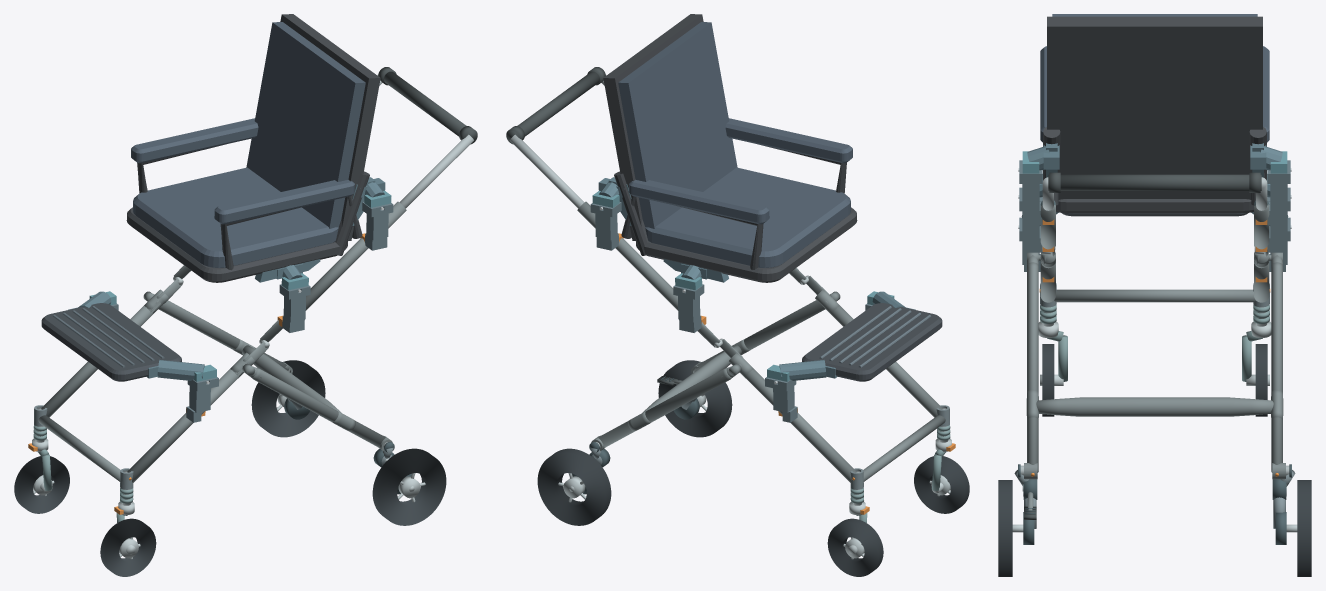
File: S08_w550_state1_wheel_S.glb
The picture shows the model from 3 angles, left to right: view 1: azimuth 30°, elevation 25°; view 2: azimuth 150°, elevation 25°; view 3: azimuth 270°, elevation 25°; orthographic projection. The views are drawn at different scales.
Visible parts, largest first — view 1: S08_Cabin, S08_Cabin_Footrest, RL_tire.002, RR_tire.002, FL_tire.002, FR_tire.002, V46_rear_leg_-1.003, S08_Cabin_Footrest_LowDocks, main_lower_-1.003, round_handle.002, main_upper_-1.003, V46_rear_leg_1.003 (+9 smaller); view 2: S08_Cabin, S08_Cabin_Footrest, RR_tire.002, RL_tire.002, FR_tire.002, FL_tire.002, V46_rear_leg_1.003, S08_Cabin_Footrest_LowDocks, main_lower_1.003, round_handle.002, main_upper_1.003, V46_rear_leg_-1.003 (+9 smaller); view 3: S08_Cabin, V46_rearbar.003, round_handle.002, front_fixed_round_tube.002, V46_rear_leg_1.003, V46_rear_leg_-1.003, S08_Cabin_HighDocks, RL_tire.002, RR_tire.002, Universal_Cabin_Receiver_H_1, Universal_Cabin_Receiver_H_-1, FL_tire.002 (+10 smaller).
Part boxes in pixels (x1,y1,x2,y2): S08_Cabin: (126,14,380,282); S08_Cabin_Footrest: (41,303,181,381); RL_tire.002: (372,448,446,525); RR_tire.002: (251,360,325,437); FL_tire.002: (100,518,156,576); FR_tire.002: (14,456,69,513); V46_rear_leg_-1.003: (251,368,385,447); S08_Cabin_Footrest_LowDocks: (68,291,216,384); main_lower_-1.003: (127,369,242,482); round_handle.002: (384,71,476,142); main_upper_-1.003: (305,201,406,310); V46_rear_leg_1.003: (158,300,288,370); S08_Cabin: (603,14,857,282); S08_Cabin_Footrest: (802,303,942,381); RR_tire.002: (537,448,611,525); RL_tire.002: (658,360,732,437); FR_tire.002: (827,518,883,576); FL_tire.002: (914,456,969,513); V46_rear_leg_1.003: (598,368,732,447); S08_Cabin_Footrest_LowDocks: (767,291,915,384); main_lower_1.003: (741,369,856,482); round_handle.002: (507,71,599,142); main_upper_1.003: (577,201,678,310); V46_rear_leg_-1.003: (695,300,825,370); S08_Cabin: (1040,14,1269,212); V46_rearbar.003: (1036,397,1273,416); round_handle.002: (1048,174,1261,190); front_fixed_round_tube.002: (1054,289,1255,302); V46_rear_leg_1.003: (1271,262,1282,472); V46_rear_leg_-1.003: (1027,262,1038,472); S08_Cabin_HighDocks: (1018,145,1291,173); RL_tire.002: (998,480,1012,576); RR_tire.002: (1297,480,1311,576); Universal_Cabin_Receiver_H_1: (1267,160,1290,225); Universal_Cabin_Receiver_H_-1: (1019,160,1042,225); FL_tire.002: (1042,344,1054,416).
Size of the model in its own units: 1.11 by 1.23 by 0.6471.
